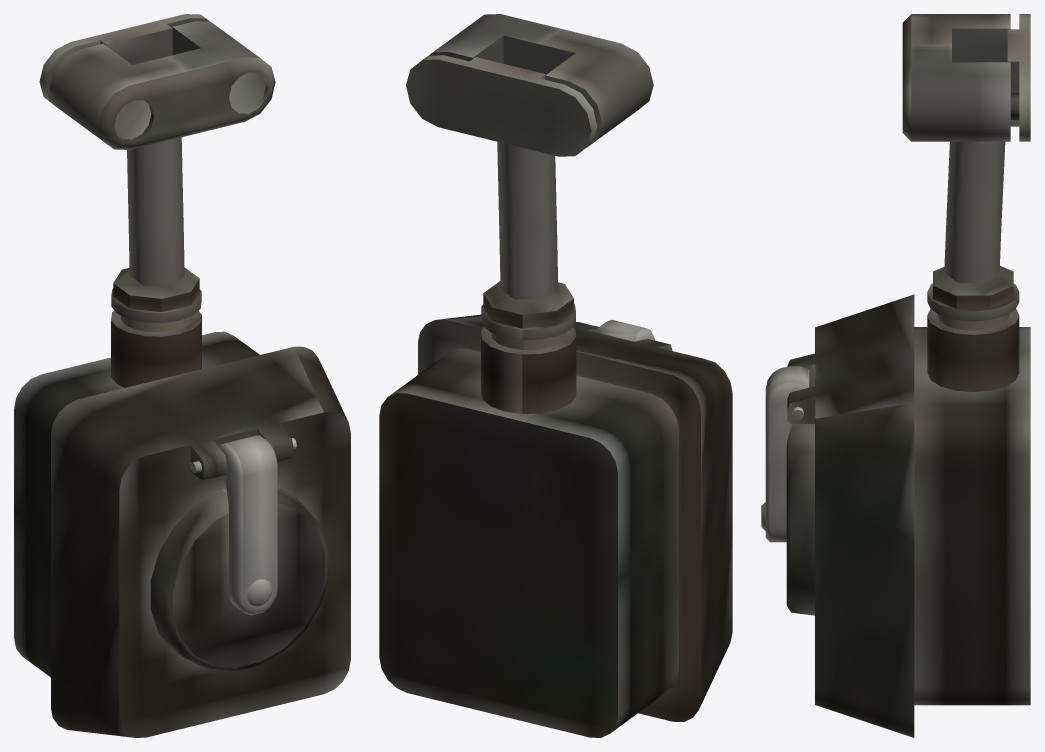
File: wall-switch--5.gltf
3 renders of one model, left to right at view 1: azimuth 30°, elevation 25°; view 2: azimuth 150°, elevation 25°; view 3: azimuth 270°, elevation 25°, orthographic. The views are drawn at different scales.
Visible parts, largest first — view 1: cable_plug_covered; view 2: cable_plug_covered; view 3: cable_plug_covered.
Boxes of the visible parts, left/top/right/bottom form: cable_plug_covered: left=14, top=14, right=350, bottom=737; cable_plug_covered: left=379, top=14, right=732, bottom=737; cable_plug_covered: left=761, top=14, right=1030, bottom=737.
Bounding box in the file's own units: 0.0635 × 0.1424 × 0.0546.
1 material, 1 textured.
